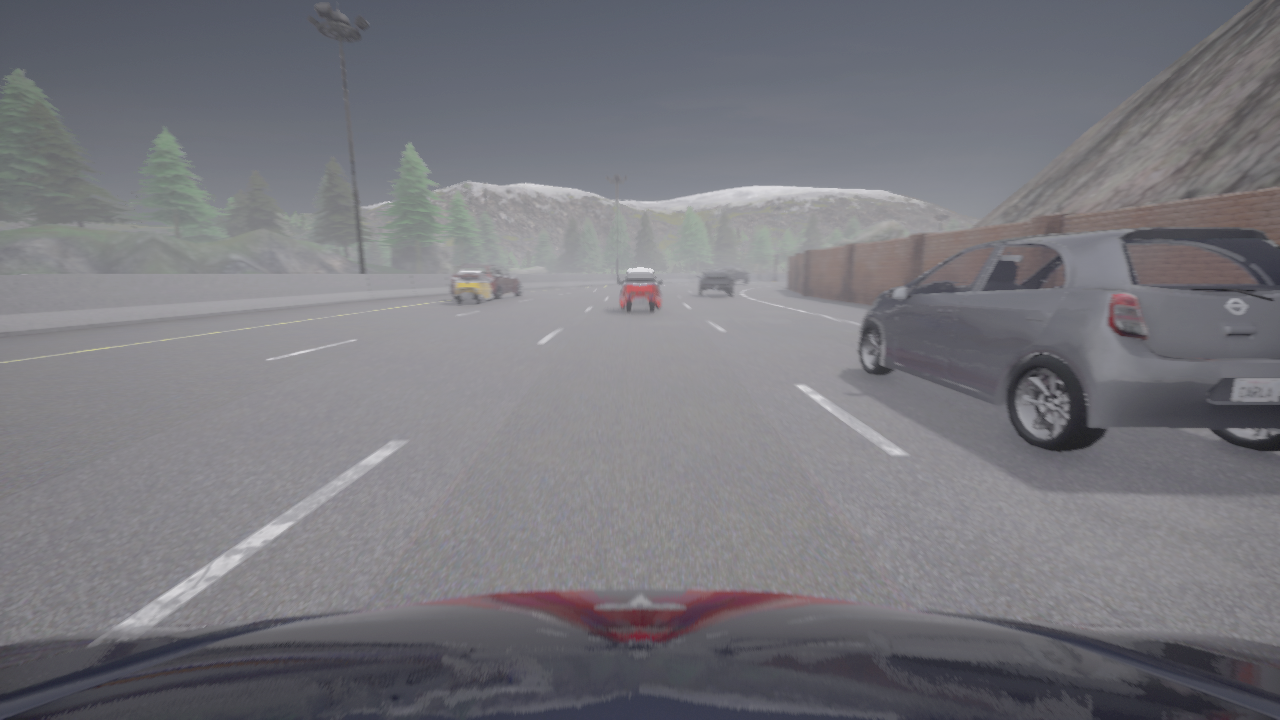cyclist: (0, 588, 1279, 719), (858, 228, 1279, 451), (451, 263, 522, 299), (618, 268, 661, 312), (455, 269, 493, 304), (695, 268, 733, 295), (715, 265, 749, 284)
